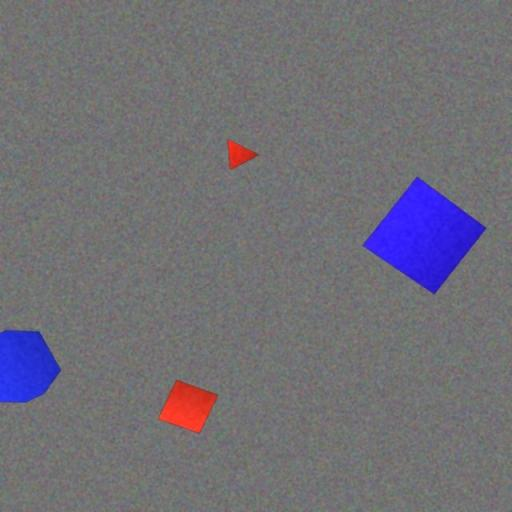BLUE_SQUARE: (362, 176, 487, 295)
RED_SQUARE: (157, 380, 219, 434)
